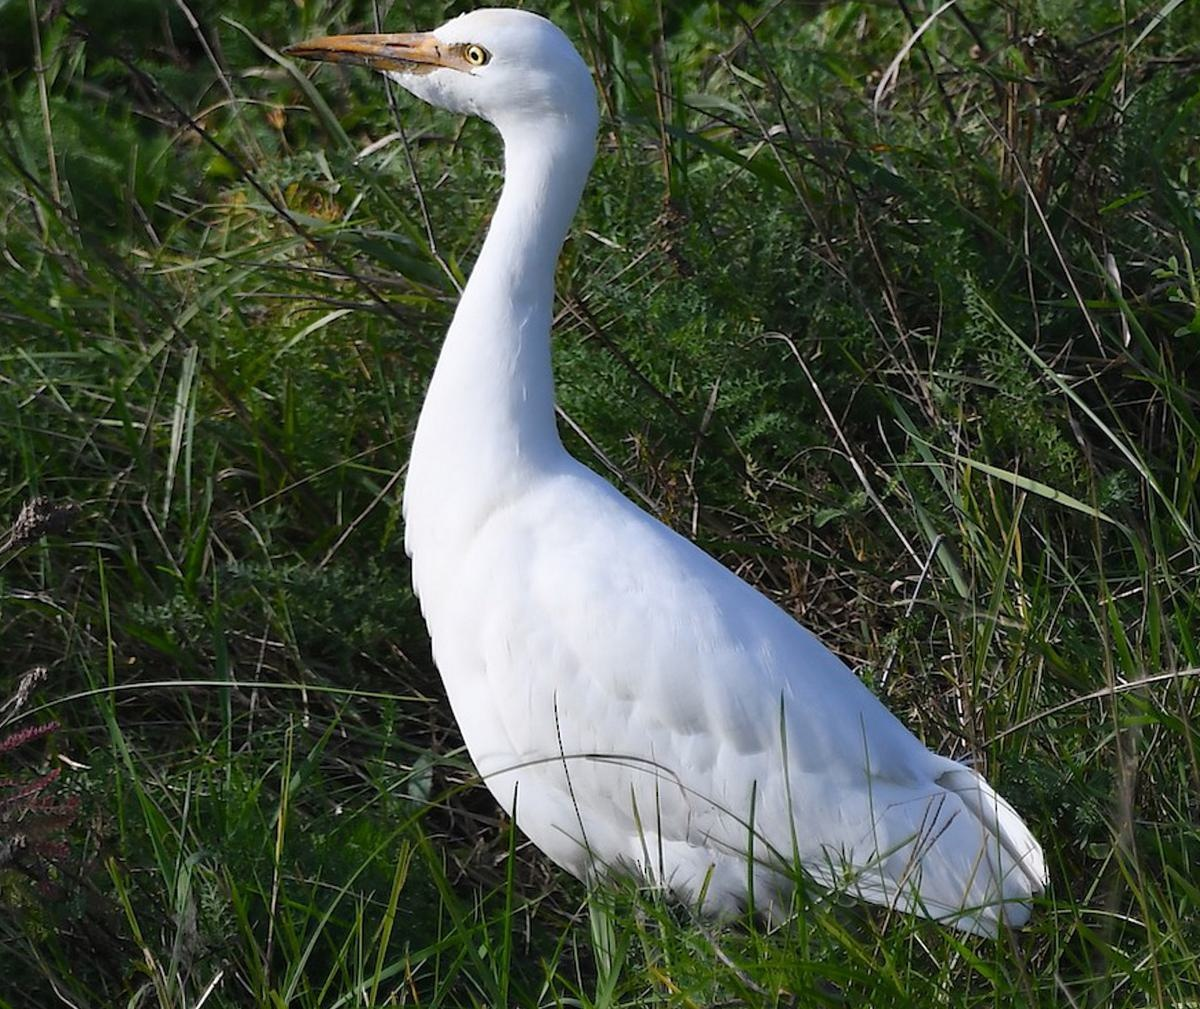egret: (267, 3, 1095, 943)
